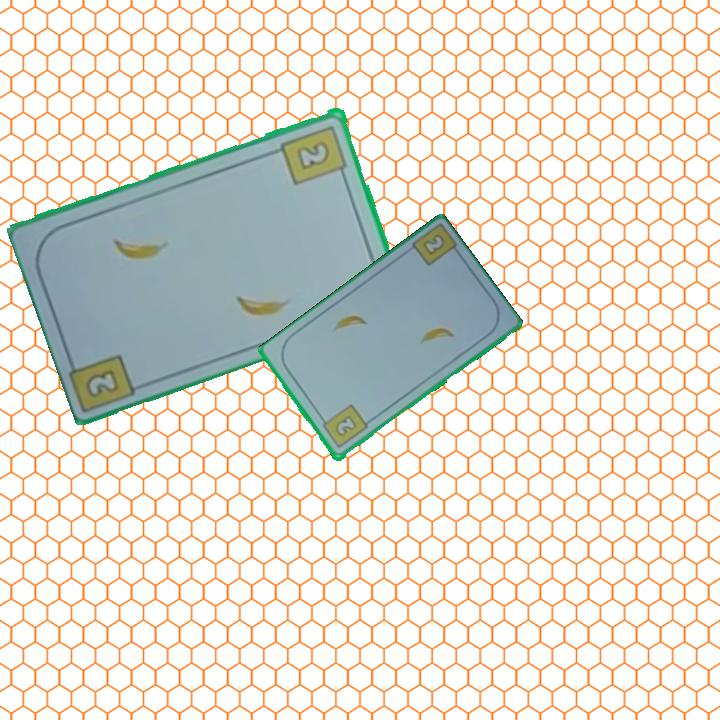2b: (278, 121, 350, 187), (317, 401, 370, 451), (82, 365, 123, 401), (421, 233, 445, 256)
